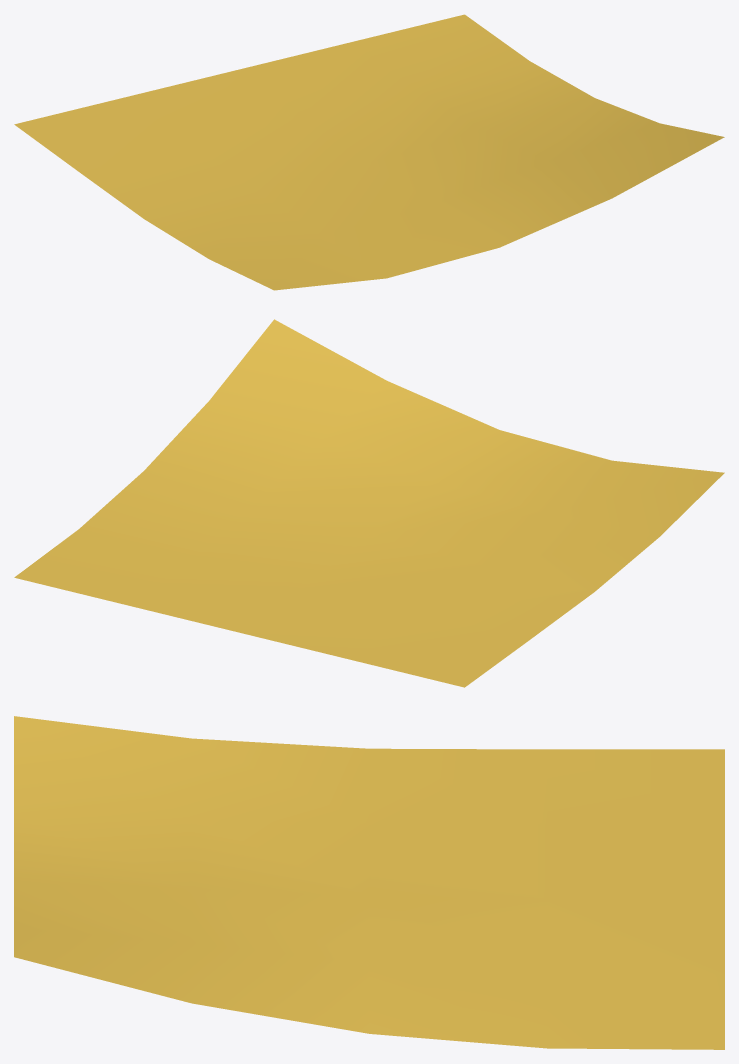
The model's file is StickyNote.glb.
3 views of the same model, one above another, from view 1: azimuth 30°, elevation 25°; view 2: azimuth 150°, elevation 25°; view 3: azimuth 270°, elevation 25° (orthographic). The views are drawn at different scales.
Parts seen in each view (by area): view 1: Plane; view 2: Plane; view 3: Plane.
Boxes of the visible parts, x1,y1,x2,y2 form: Plane: [14, 14, 724, 290]; Plane: [14, 319, 724, 687]; Plane: [14, 716, 724, 1049].
Bounding box in the file's own units: 0.6 × 0.0863 × 0.6.
